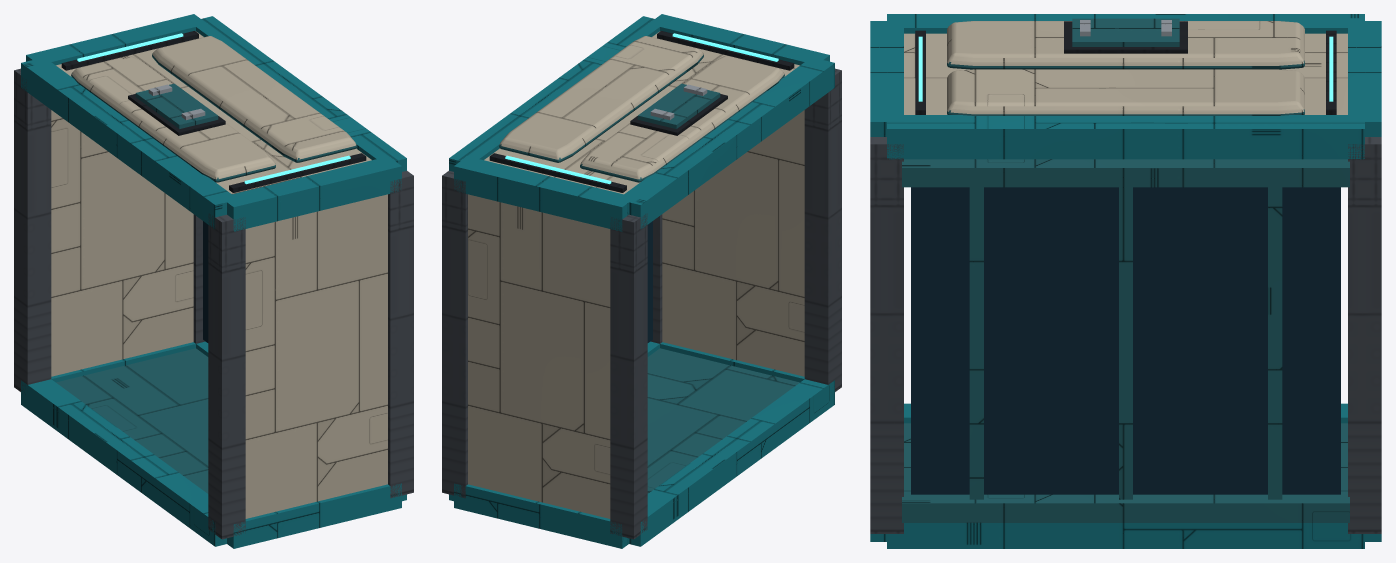
File: windowed_observation_end_lod1.glb
The picture shows the model from 3 angles, left to right: view 1: azimuth 30°, elevation 25°; view 2: azimuth 150°, elevation 25°; view 3: azimuth 270°, elevation 25°; orthographic projection. The views are drawn at different scales.
Visible parts, largest first — view 1: LOD1_Hull, LOD1_Livery, LOD1_Mechanical, LOD1_Armor, LOD1_MechanicalDark, LOD1_Lights_Cyan, LOD1_CANOPY; view 2: LOD1_Hull, LOD1_Livery, LOD1_Mechanical, LOD1_Armor, LOD1_MechanicalDark, LOD1_Lights_Cyan, LOD1_CANOPY; view 3: LOD1_CANOPY, LOD1_Armor, LOD1_Livery, LOD1_Hull, LOD1_Mechanical, LOD1_MechanicalDark, LOD1_Lights_Cyan.
Part boxes in pixels (bbox=[...]): LOD1_Hull: bbox=[51, 31, 387, 518]; LOD1_Livery: bbox=[21, 14, 406, 548]; LOD1_Mechanical: bbox=[14, 68, 413, 539]; LOD1_Armor: bbox=[56, 53, 356, 493]; LOD1_MechanicalDark: bbox=[61, 31, 366, 192]; LOD1_Lights_Cyan: bbox=[77, 33, 350, 184]; LOD1_CANOPY: bbox=[203, 221, 208, 342]; LOD1_Hull: bbox=[468, 31, 804, 518]; LOD1_Livery: bbox=[449, 14, 834, 548]; LOD1_Mechanical: bbox=[442, 68, 841, 539]; LOD1_Armor: bbox=[499, 54, 799, 493]; LOD1_MechanicalDark: bbox=[489, 31, 794, 192]; LOD1_Lights_Cyan: bbox=[505, 33, 778, 184]; LOD1_CANOPY: bbox=[647, 221, 652, 342]; LOD1_CANOPY: bbox=[911, 187, 1340, 494]; LOD1_Armor: bbox=[902, 18, 1349, 522]; LOD1_Livery: bbox=[870, 14, 1381, 548]; LOD1_Hull: bbox=[904, 21, 1347, 114]; LOD1_Mechanical: bbox=[870, 137, 1381, 533]; LOD1_MechanicalDark: bbox=[915, 21, 1336, 114]; LOD1_Lights_Cyan: bbox=[918, 36, 1333, 101].
Size of the model in its own units: 2.4 by 4.1 by 4.28.
8 materials, 6 textured.
